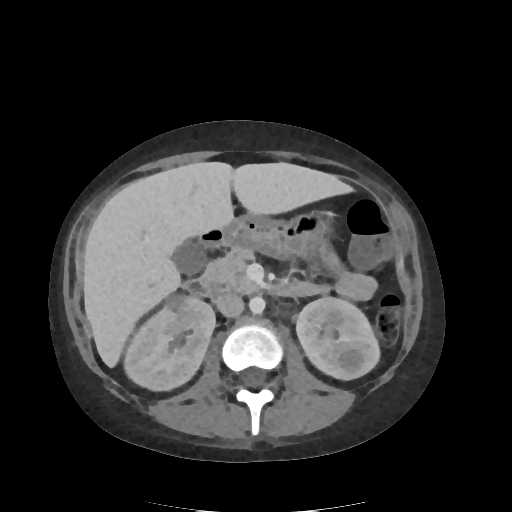Lesion: (331, 346, 369, 373)
